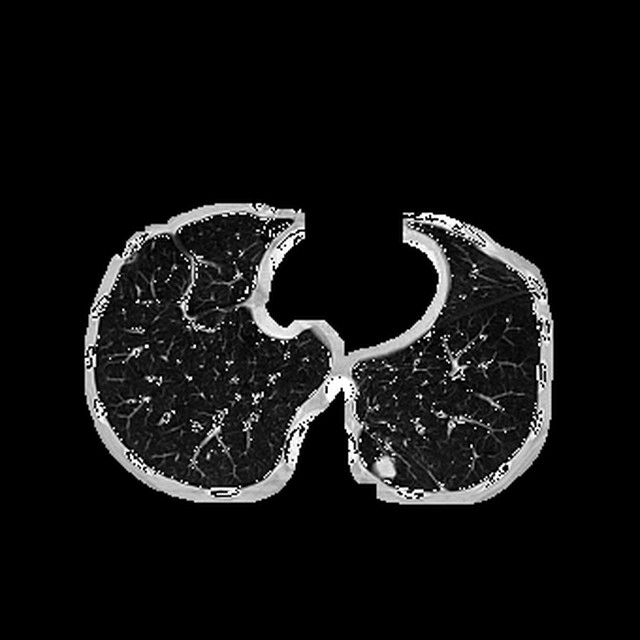PN: (375, 457, 397, 480)
